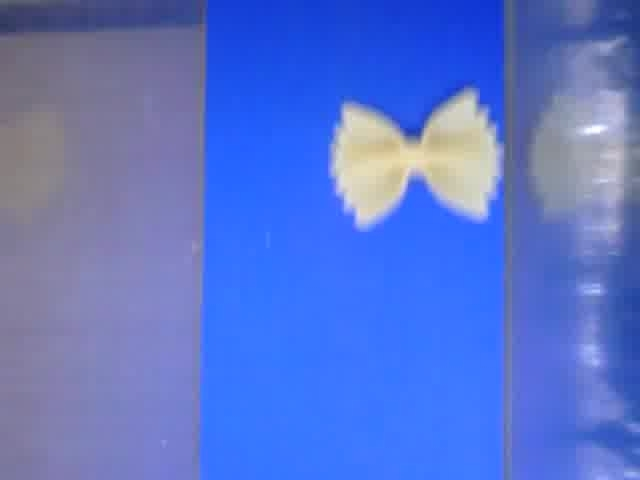farfalle: (330, 85, 503, 232)
